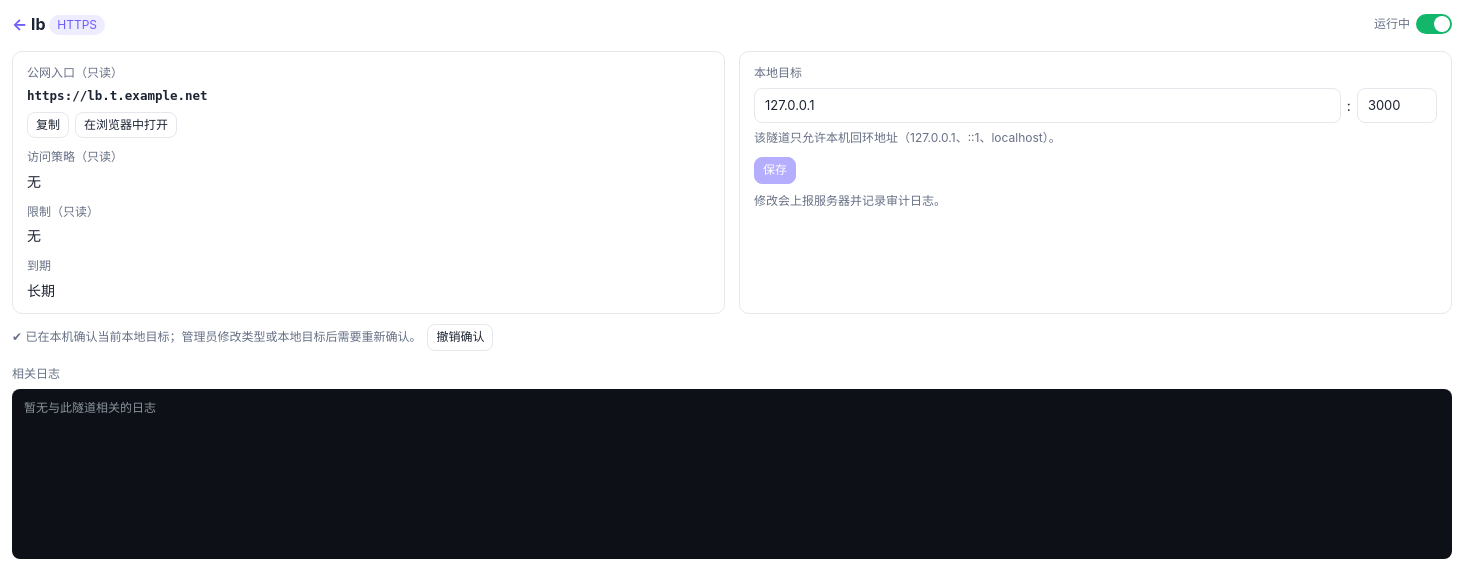
it: tunnel detail local target › respects loopbackOnly before sending anything
Expected: the text "该隧道只允许本机回环地址（127.0.0.1、::1、localhost）。" is shown, [754, 130, 1061, 144]
Replace the text in the field named "本地地址" with "192.168.1.20" at (1047, 105), box [754, 88, 1341, 122]
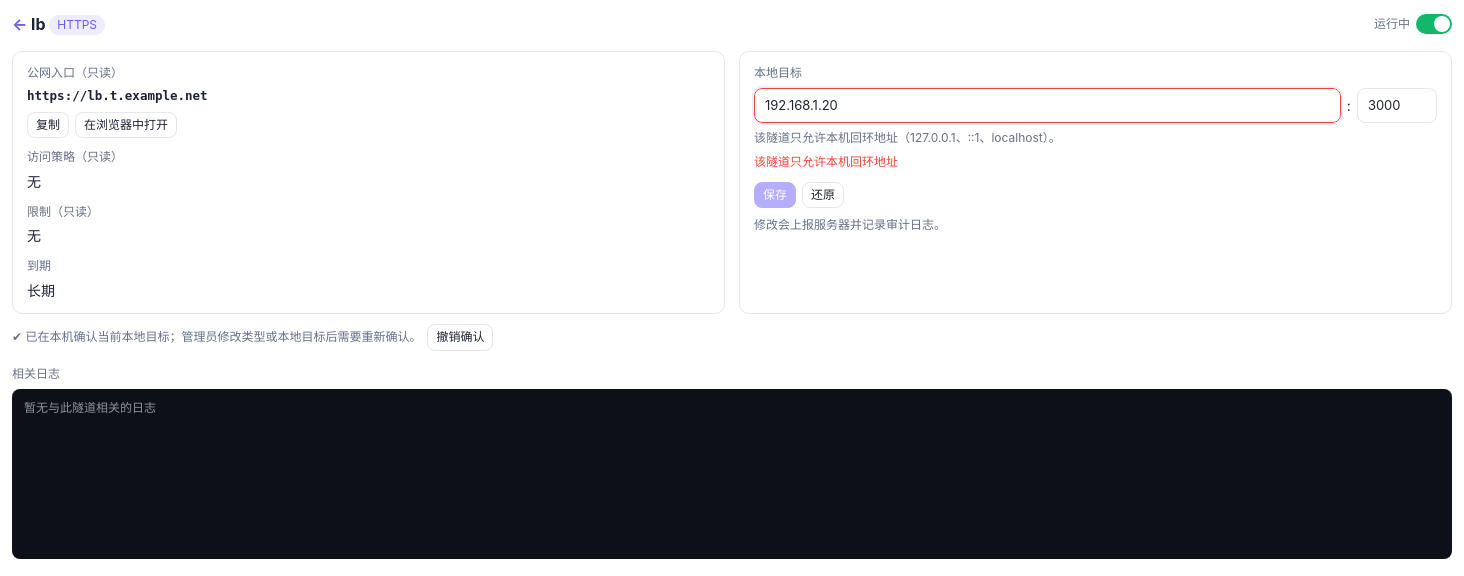
Expected: the button "保存" is disabled, [754, 182, 796, 208]
Expected: the text "该隧道只允许本机回环地址" is shown, [754, 154, 898, 169]
